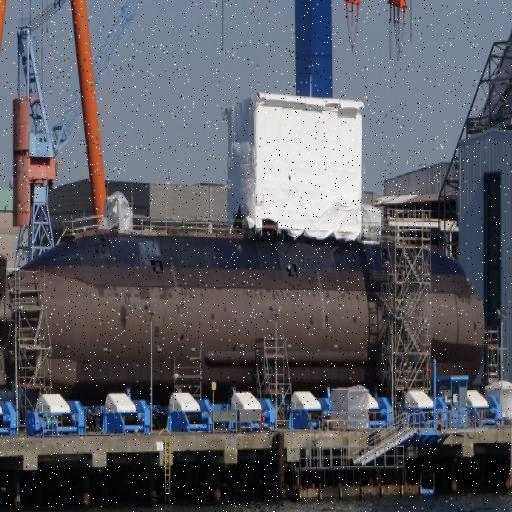submarine: (1, 87, 492, 404)
